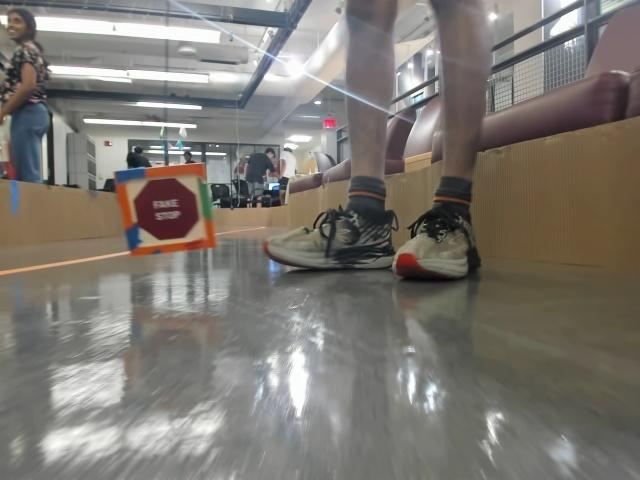Fake Stop: (131, 181, 194, 243)
